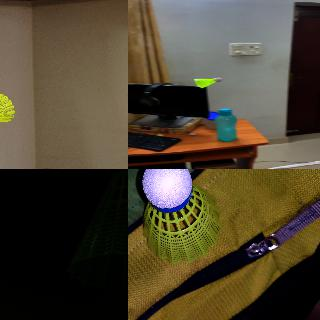shuttlecock: (141, 169, 222, 265), (66, 169, 127, 292), (0, 93, 14, 124), (194, 77, 222, 88)
